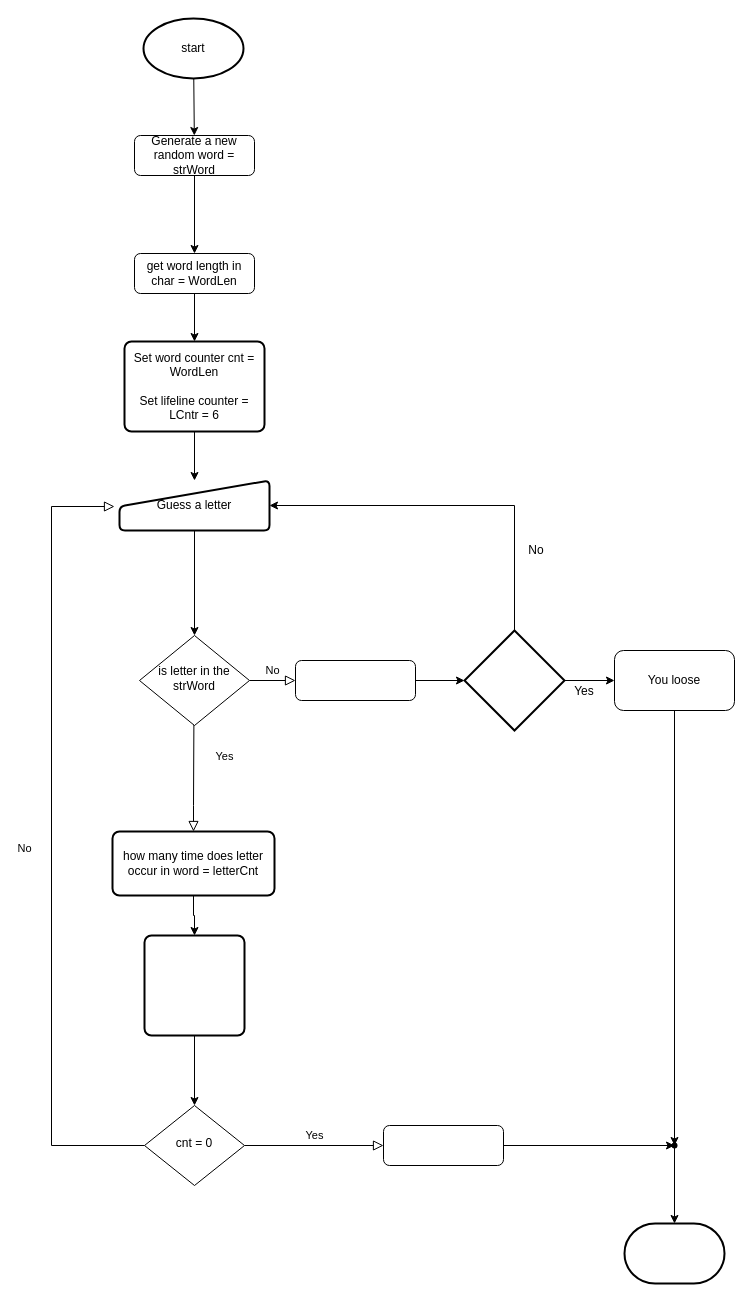
Image size: 752x1301. Some labels were removed from this diagram. The centre of each missing label's shape, as x and y in pixels:
"cnt = cnt - letterCnt" goes at point 194,985.
"Is LCntr = 0" goes at point 514,680.
"LCntr = LCntr - 1" goes at point 355,680.
"Stop" goes at point 674,1253.
"You win" goes at point 443,1145.
